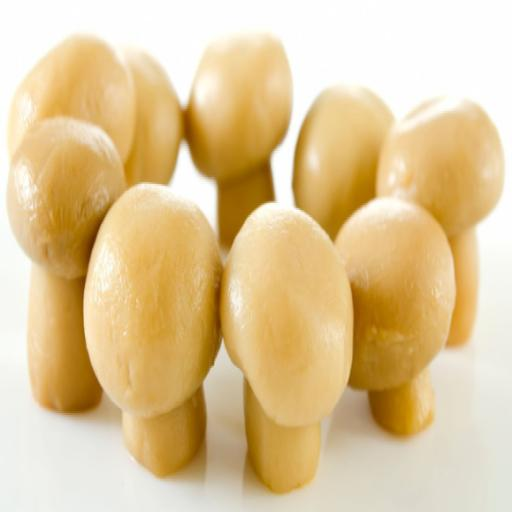Button Mushroom: (86, 179, 224, 480), (6, 123, 131, 431), (219, 201, 350, 476), (334, 198, 467, 454), (182, 25, 292, 244)
